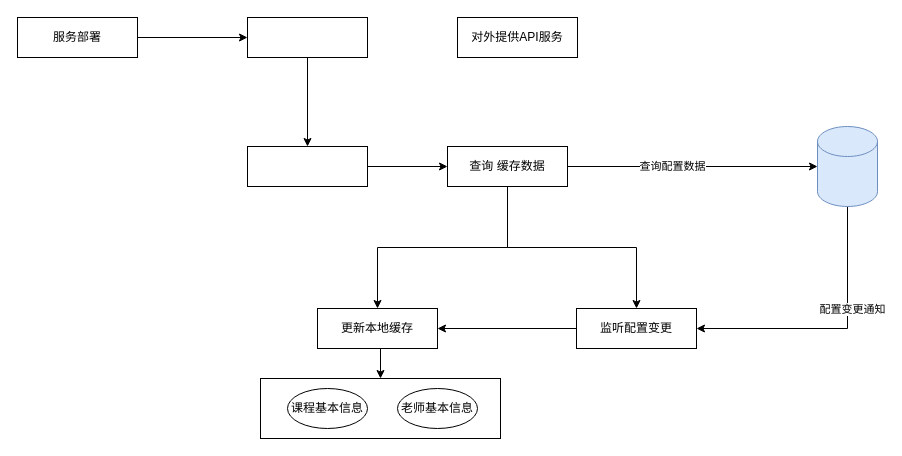
Image size: 902x456. Some labels were removed from this diagram. Here are the shapes that lost their labels. From the top down, the centre of each, then its label:
At point (307, 37): "项目启动".
At point (307, 166): "缓存数据初始化".
At point (847, 166): "Nacos".
